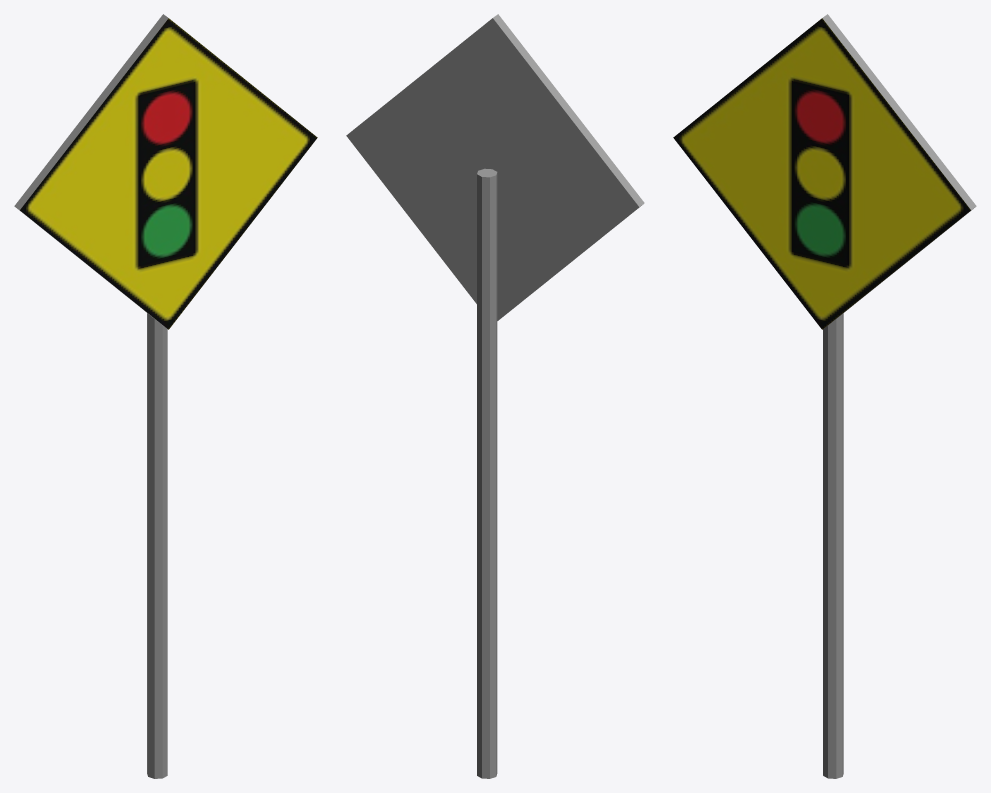
The model's file is PlacaSemaforo.fbx.
3 views of the same model, side by side, from view 1: azimuth 30°, elevation 25°; view 2: azimuth 150°, elevation 25°; view 3: azimuth 330°, elevation 25° (orthographic).
Parts seen in each view (by area): view 1: PlacaSemaforo; view 2: PlacaSemaforo; view 3: PlacaSemaforo.
Boxes of the visible parts, x1=… form: PlacaSemaforo: x1=14, y1=14, x2=317, y2=778; PlacaSemaforo: x1=346, y1=14, x2=644, y2=778; PlacaSemaforo: x1=673, y1=14, x2=976, y2=778.
Size of the model in its own units: 114 by 279 by 11.04.
